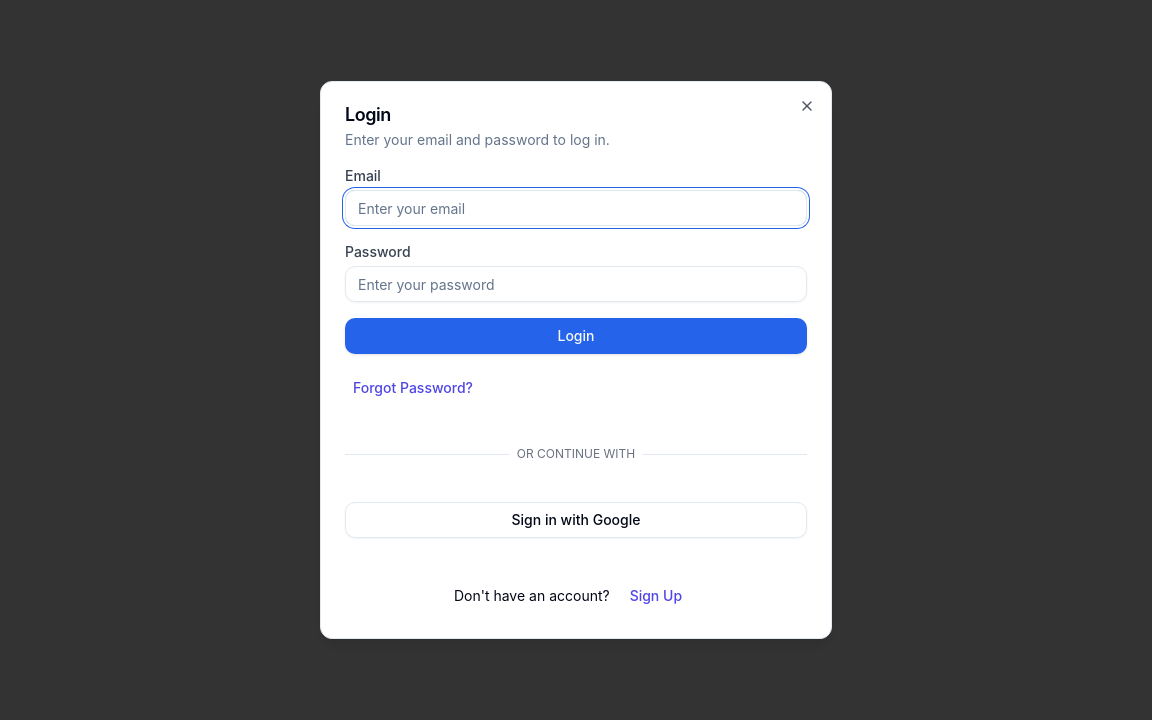
Test: AuthModal › handles password reset correctly
This screenshot has width=1152, height=720.
Click "Forgot Password?" link
Click the button "Forgot Password?" at coordinates (413, 388), box [345,370,807,406]
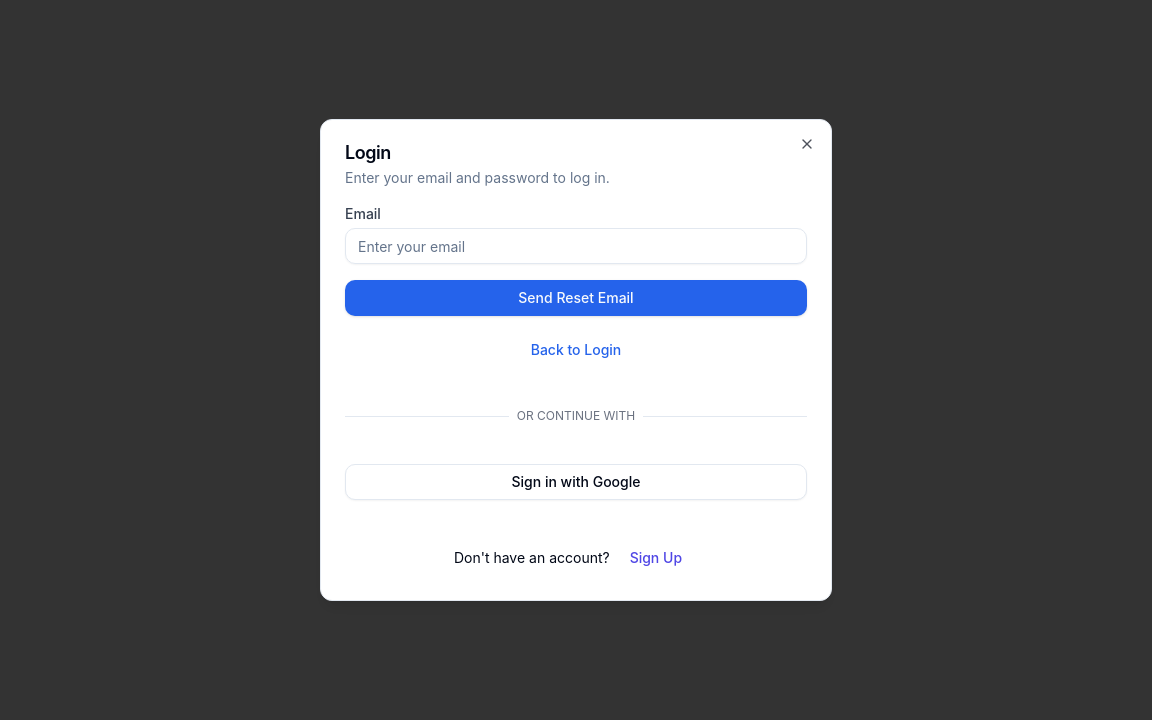
Type "test@example.com" into the field with placeholder "Enter your email" at coordinates (576, 246), box [345,228,807,264]
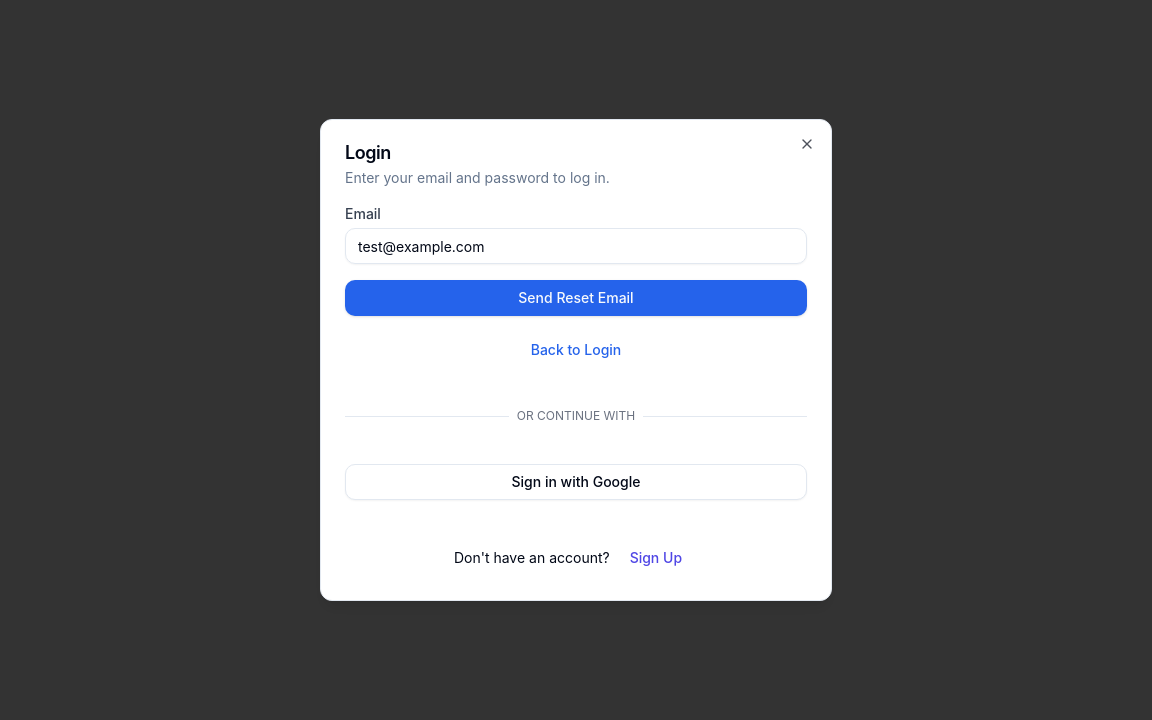
Click the button "Send Reset Email" at coordinates (576, 298), box [345,280,807,316]
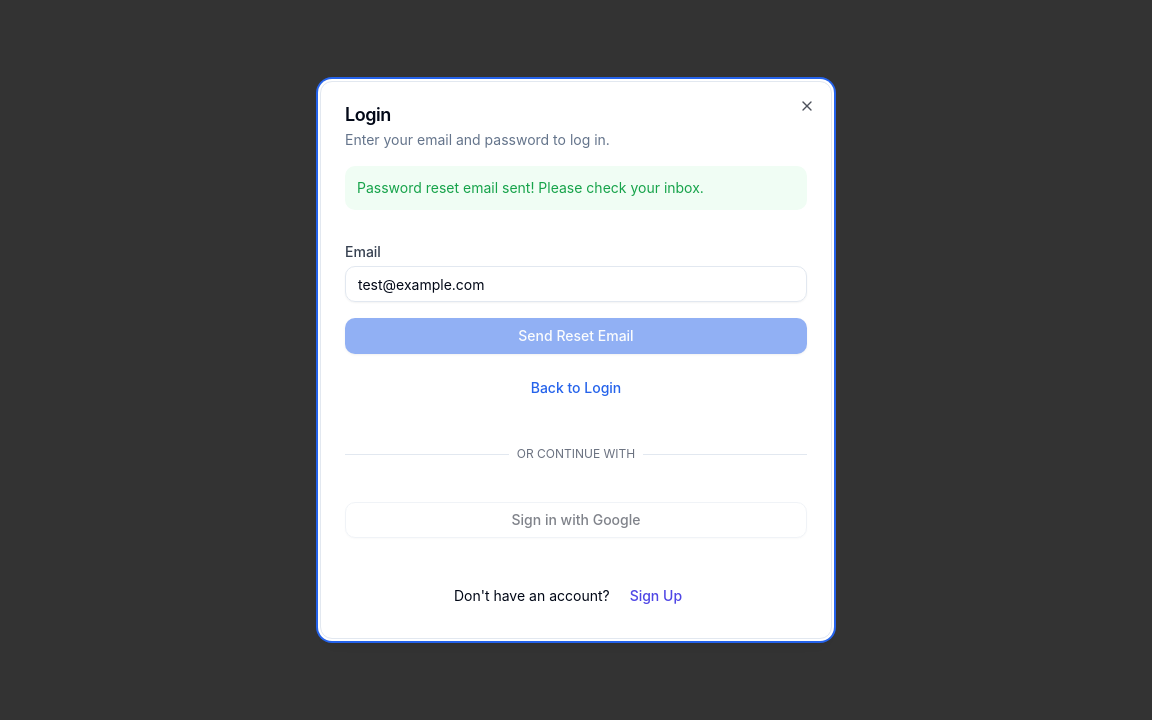
Expected: the text "Password reset email sent! Please check your inbox." is shown, [345,166,807,210]
